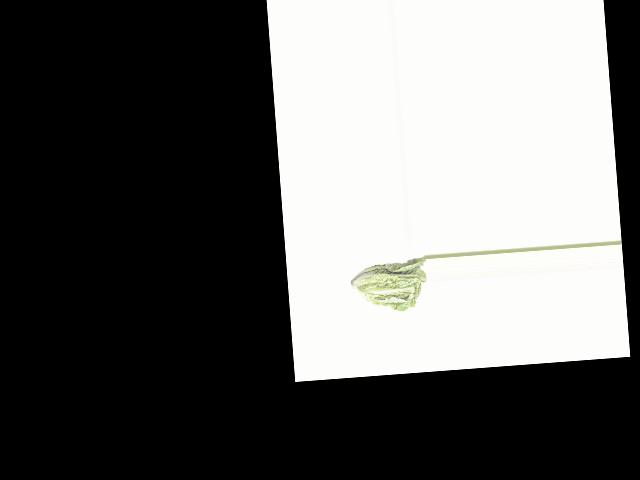lettuce: (351, 257, 429, 317)
